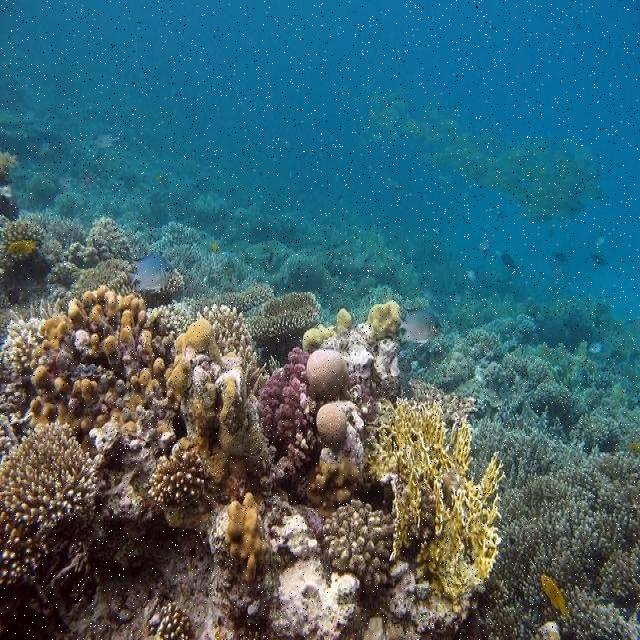aquatic plants: (0, 275, 506, 613)
fish: (396, 302, 442, 349), (124, 256, 173, 295)
